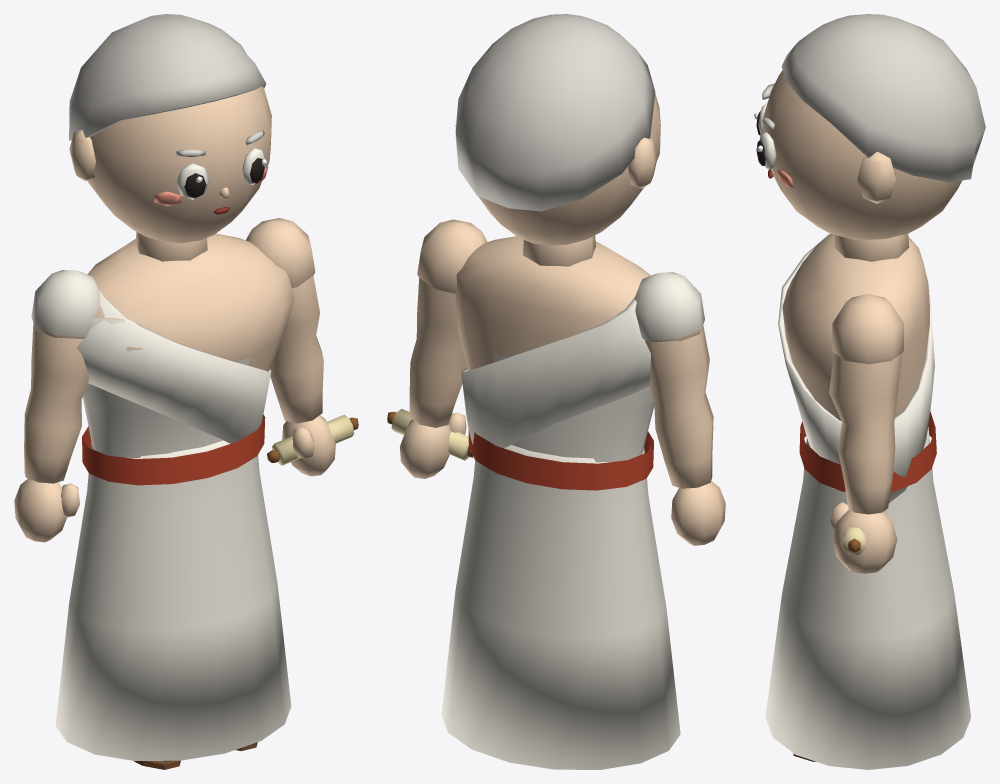
The model's file is senator.glb.
3 views of the same model, side by side, from view 1: azimuth 30°, elevation 25°; view 2: azimuth 150°, elevation 25°; view 3: azimuth 270°, elevation 25° (orthographic).
Parts seen in each view (by area): view 1: huefte, rumpf, kopf, haare, armL, armR, itemR, augeL, augeR; view 2: huefte, rumpf, haare, armL, armR, kopf, itemR; view 3: huefte, haare, rumpf, kopf, armR, augeR, itemR.
Part boxes in pixels (x1,y1,x2,y2): huefte: (55, 440, 291, 760); rumpf: (76, 233, 294, 485); kopf: (69, 86, 271, 261); haare: (69, 14, 266, 140); armL: (14, 270, 100, 542); armR: (246, 218, 335, 476); itemR: (267, 414, 358, 465); augeL: (176, 163, 209, 199); augeR: (242, 148, 266, 184); huefte: (441, 445, 680, 769); rumpf: (455, 236, 654, 490); haare: (455, 14, 655, 211); armL: (634, 272, 725, 545); armR: (399, 219, 487, 478); kopf: (455, 94, 660, 266); itemR: (387, 408, 473, 460); huefte: (765, 427, 971, 769); haare: (781, 14, 985, 182); rumpf: (778, 233, 936, 502); kopf: (763, 70, 962, 261); armR: (829, 294, 903, 574); augeR: (756, 132, 776, 169); itemR: (843, 527, 865, 554).
Size of the model in its own units: 1.13 by 2.29 by 0.6753.
